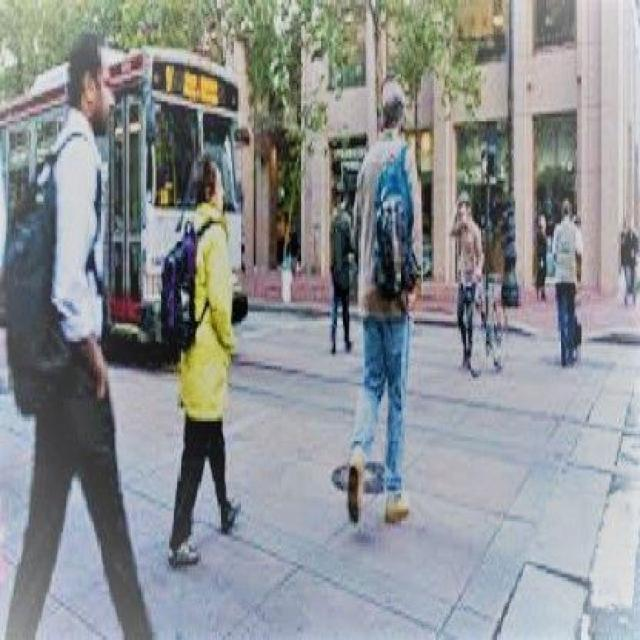Person: (5, 26, 158, 639), (345, 72, 424, 528), (164, 151, 244, 571), (546, 200, 588, 369), (446, 192, 485, 370), (320, 186, 357, 354)
